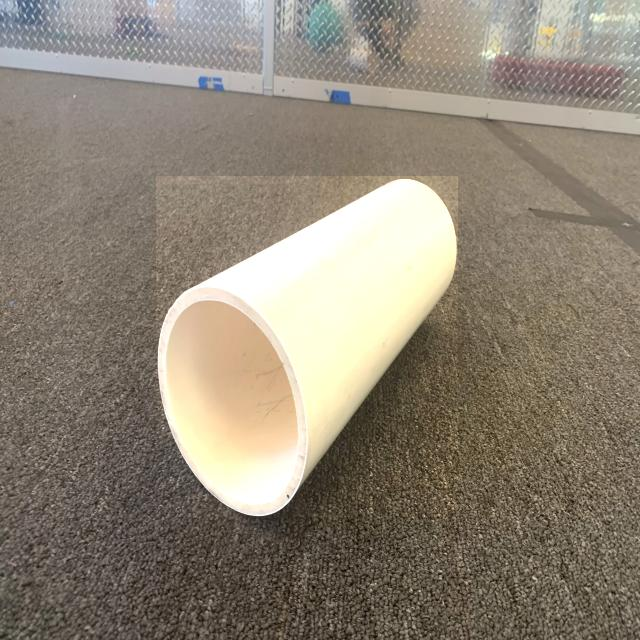Coral: (156, 176, 458, 518)
